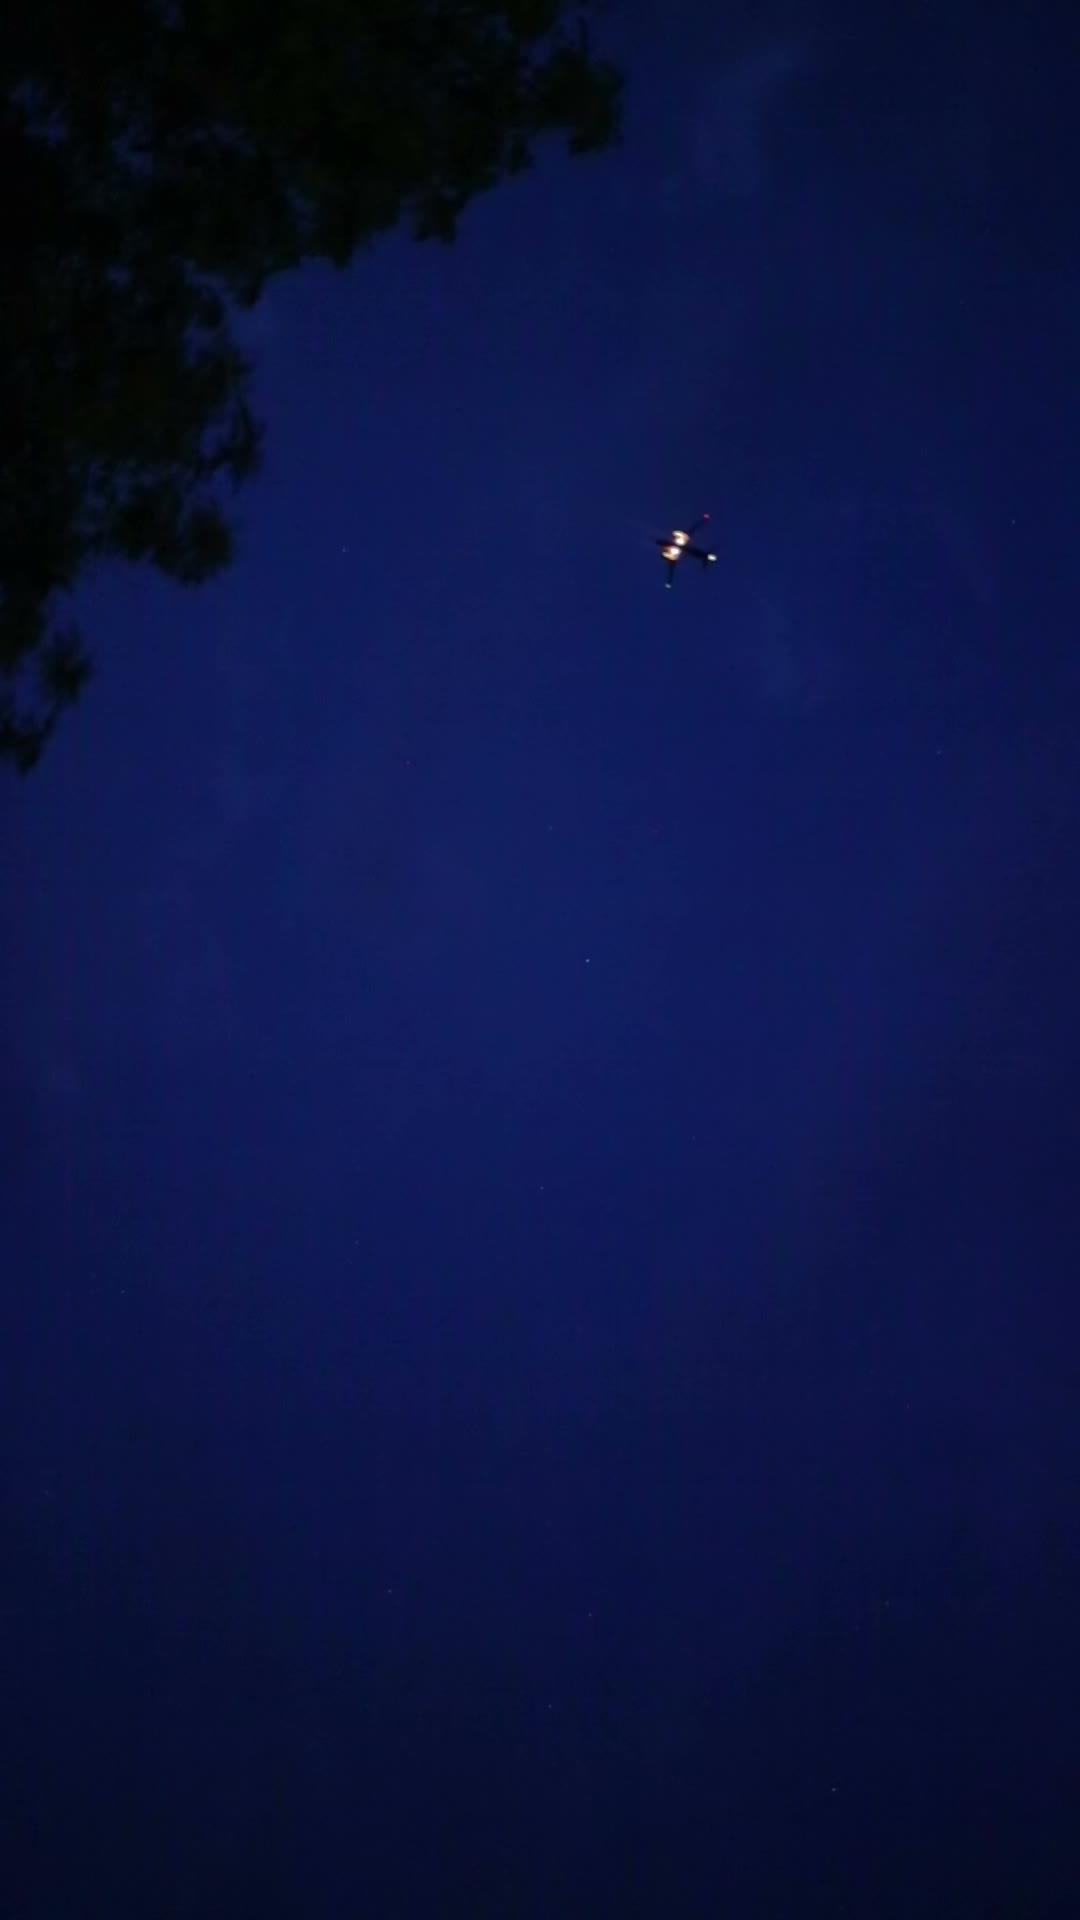Plane: (638, 498, 735, 589)
